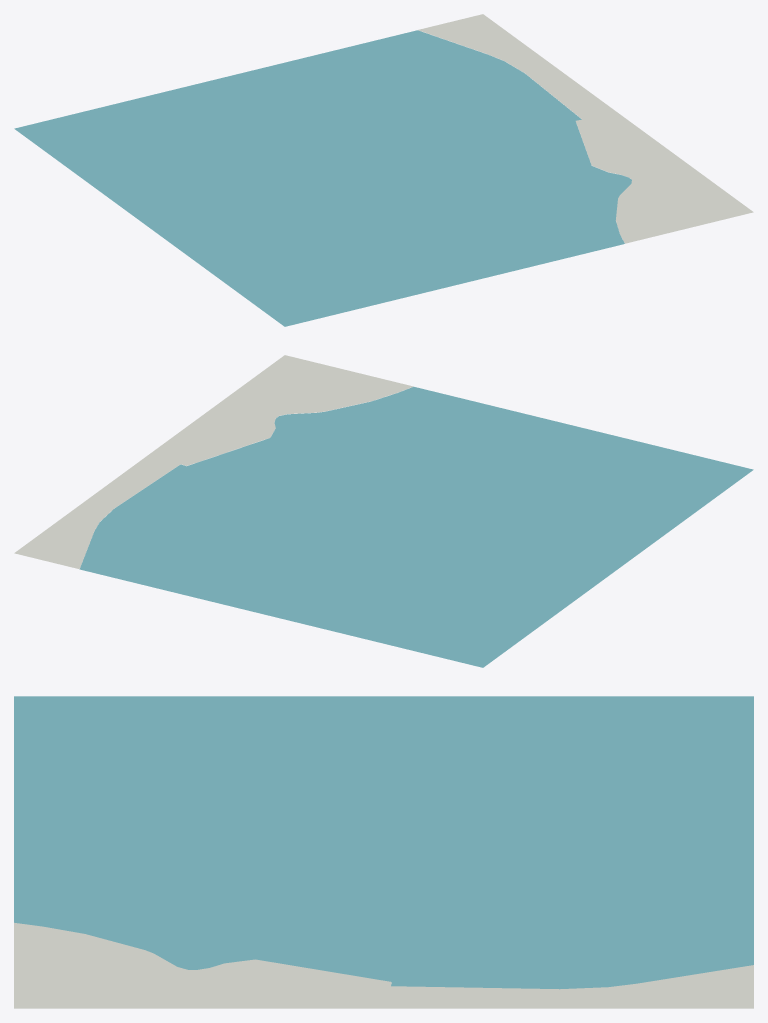
3 renders of one model, top to bottom at view 1: azimuth 30°, elevation 25°; view 2: azimuth 150°, elevation 25°; view 3: azimuth 270°, elevation 25°, orthographic. The views are drawn at different scales.
Visible parts, largest first — view 1: city; view 2: city; view 3: city.
Part boxes in pixels (box(x1,y1,x2,y2)): city: box(14, 14, 753, 326); city: box(14, 355, 753, 667); city: box(14, 696, 753, 1008).
Bounding box in the file's own units: 500 × 0.18 × 500.
